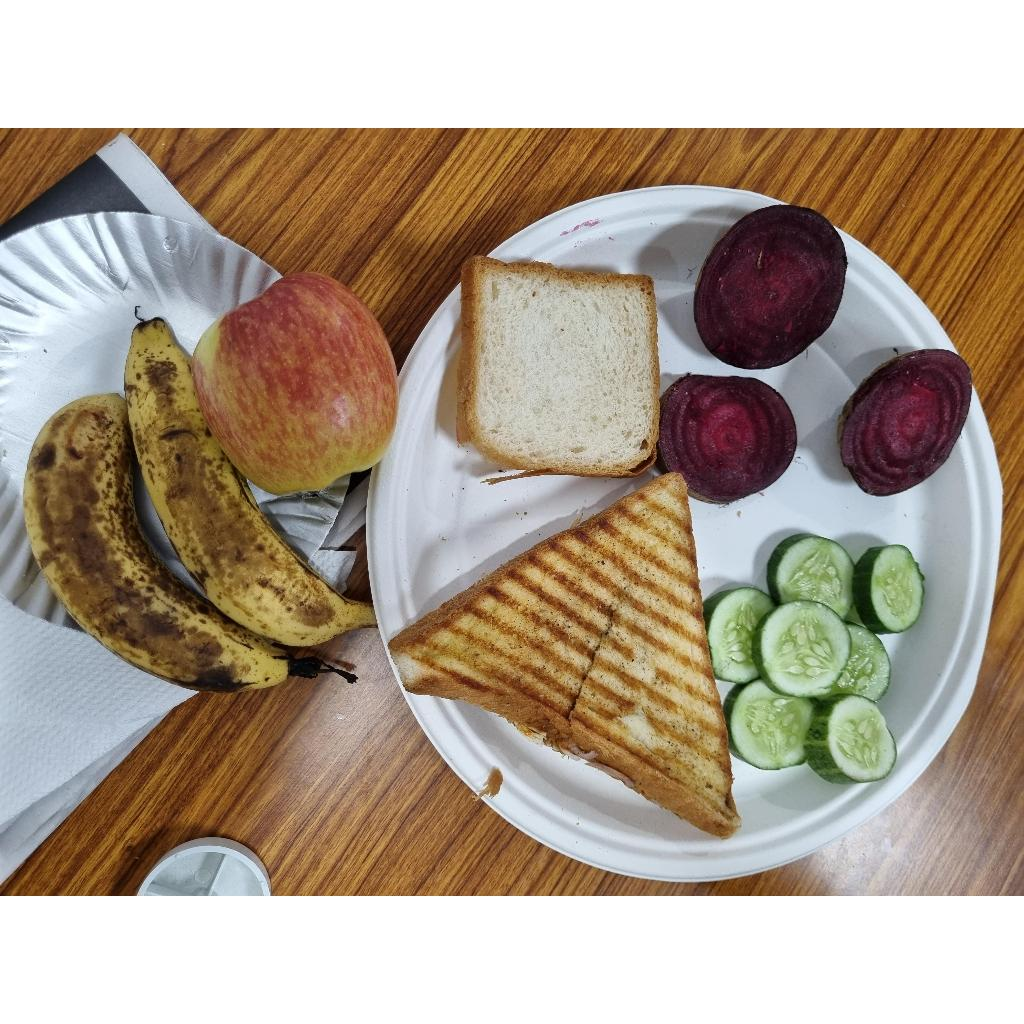apple: (189, 275, 401, 498)
banana: (123, 319, 372, 686), (23, 395, 317, 695)
cucumber: (760, 602, 854, 697), (727, 680, 820, 773), (703, 579, 776, 689), (812, 692, 895, 786), (847, 545, 929, 637), (774, 532, 855, 619), (831, 627, 892, 701)
